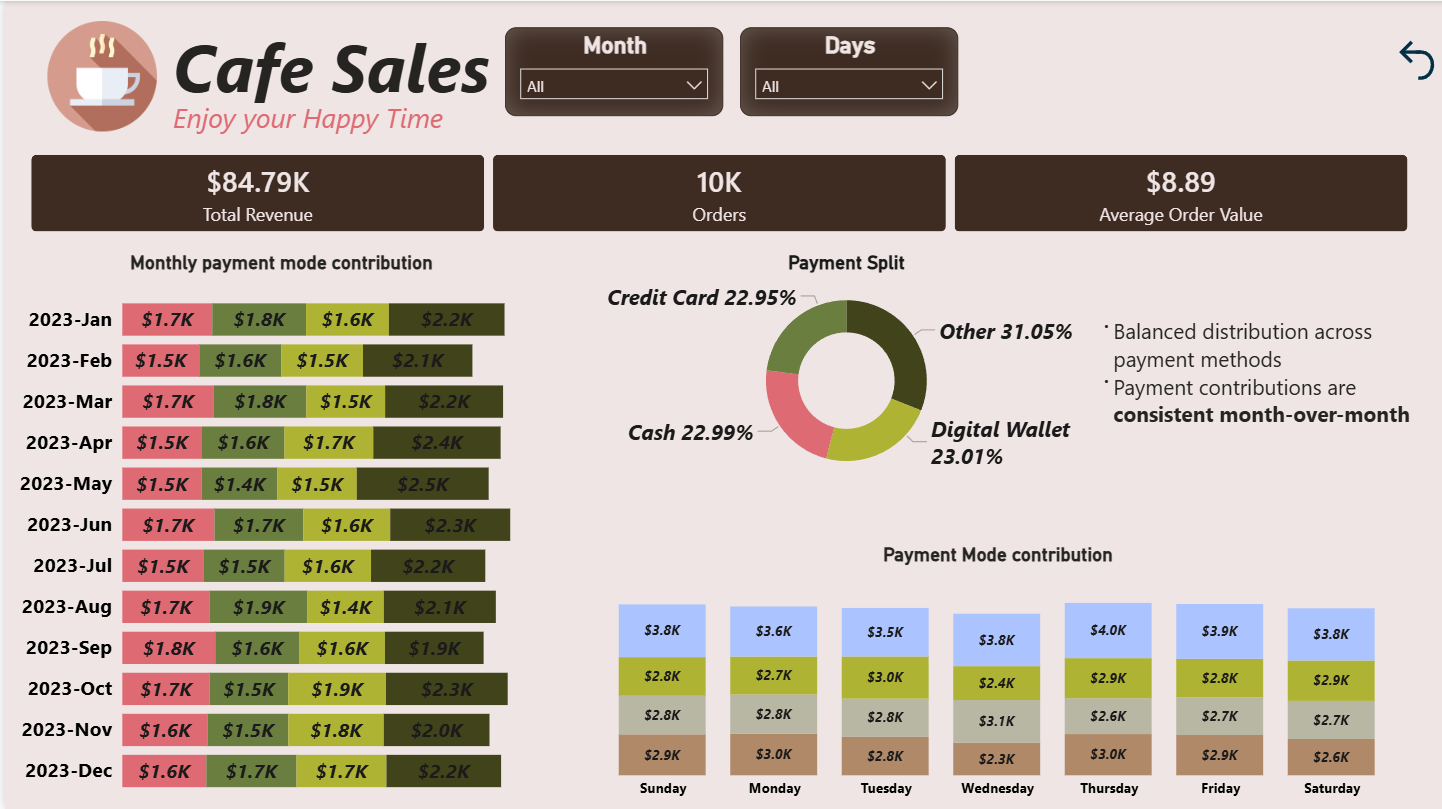

The dashboard page shown, as its layout file describes it:
{"tool":"powerbi","page":{"name":"PAYMENT BEHAVIOR","canvas":[1280,720],"ordinal":4},"visuals":[{"type":"image","box":[28.9,17.3,115.4,98.1],"z":0},{"type":"textbox","box":[144.3,13,321.7,102.4],"z":1000},{"type":"textbox","box":[144.3,82.2,341.9,66.4],"z":2000},{"type":"cardVisual","fields":{"Data":["Measures Table.Total Revenue","Measures Table.Total Orders","Measures Table.AOV"]},"box":[7.2,119.7,1259.5,102.4],"z":3000},{"type":"slicer","title":"Month","fields":{"Values":["cafe dim_date_view.Month Name"]},"box":[445.8,23.1,194.8,79.4],"z":4000},{"type":"slicer","title":"Days","fields":{"Values":["cafe dim_date_view.Day Name"]},"box":[654.5,23.1,194.8,79.4],"z":5000},{"type":"barChart","title":"Monthly payment mode contribution","fields":{"Category":["cafe dim_date_view.YearMonth"],"Y":["Measures Table.Total Revenue"],"Series":["cafe dim_payment_view.Payment_Method"]},"box":[7.2,222.2,479,497.8],"z":6000},{"type":"donutChart","title":"Payment Split","fields":{"Y":["Measures Table.Total Revenue"],"Category":["cafe dim_payment_view.Payment_Method"]},"box":[502.1,222.2,494.9,212.1],"z":7000},{"type":"columnChart","title":"Payment Mode contribution","fields":{"Category":["cafe dim_date_view.Day Name"],"Y":["Measures Table.Total Revenue"],"Series":["cafe dim_payment_view.Payment_Method"]},"box":[502.1,483.3,764.7,236.6],"z":8000},{"type":"textbox","box":[963.8,275.6,316,196.2],"z":9000},{"type":"actionButton","box":[1234.2,22.9,45.8,59.1],"z":12000}]}

Visuals, with their boxes in screenshot pixels (x1, y1, x2, y2), scaled from the page's 1280x720 canvas onto the 1442x809 screenshot:
image: bbox=[33, 19, 163, 130]
textbox: bbox=[163, 15, 525, 130]
textbox: bbox=[163, 92, 548, 167]
cardVisual - Measures Table.Total Revenue x Measures Table.Total Orders: bbox=[8, 134, 1427, 250]
"Month" slicer: bbox=[502, 26, 722, 115]
"Days" slicer: bbox=[737, 26, 957, 115]
"Monthly payment mode contribution" barChart: bbox=[8, 250, 548, 808]
"Payment Split" donutChart: bbox=[566, 250, 1123, 488]
"Payment Mode contribution" columnChart: bbox=[566, 543, 1427, 808]
textbox: bbox=[1086, 310, 1441, 530]
actionButton: bbox=[1390, 26, 1441, 92]
